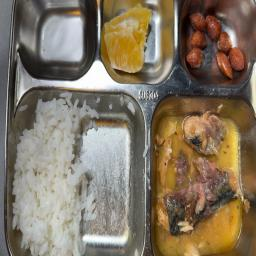25_nuts: (180, 2, 250, 86)
50_fish: (156, 96, 249, 250)
50_orange: (106, 0, 172, 77)
50_rice: (13, 91, 138, 255)
empty: (25, 0, 91, 71)
